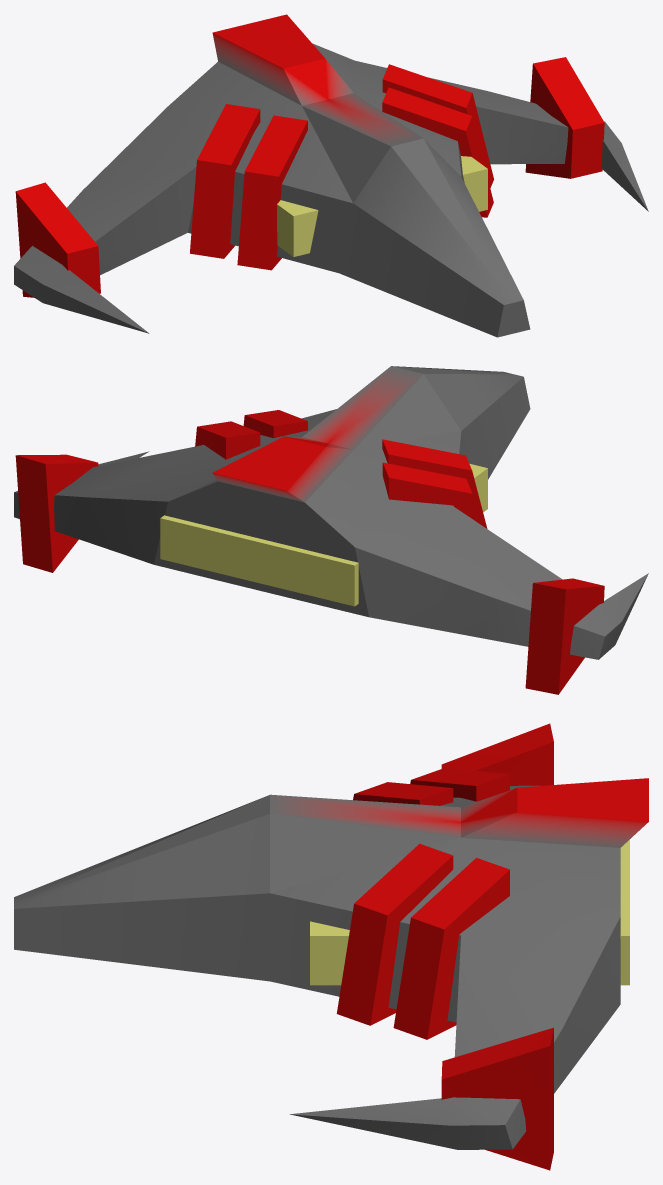
The model's file is Ship_Player_07.FBX.
3 renders of one model, top to bottom at view 1: azimuth 30°, elevation 25°; view 2: azimuth 150°, elevation 25°; view 3: azimuth 270°, elevation 25°, orthographic. The views are drawn at different scales.
Parts seen in each view (by area): view 1: Ship_Player_07; view 2: Ship_Player_07; view 3: Ship_Player_07.
Part boxes in pixels (bbox=[...]): Ship_Player_07: bbox=[14, 14, 648, 337]; Ship_Player_07: bbox=[14, 366, 648, 694]; Ship_Player_07: bbox=[14, 723, 648, 1170].
Bounding box in the file's own units: 70.31 × 20.21 × 54.44.
